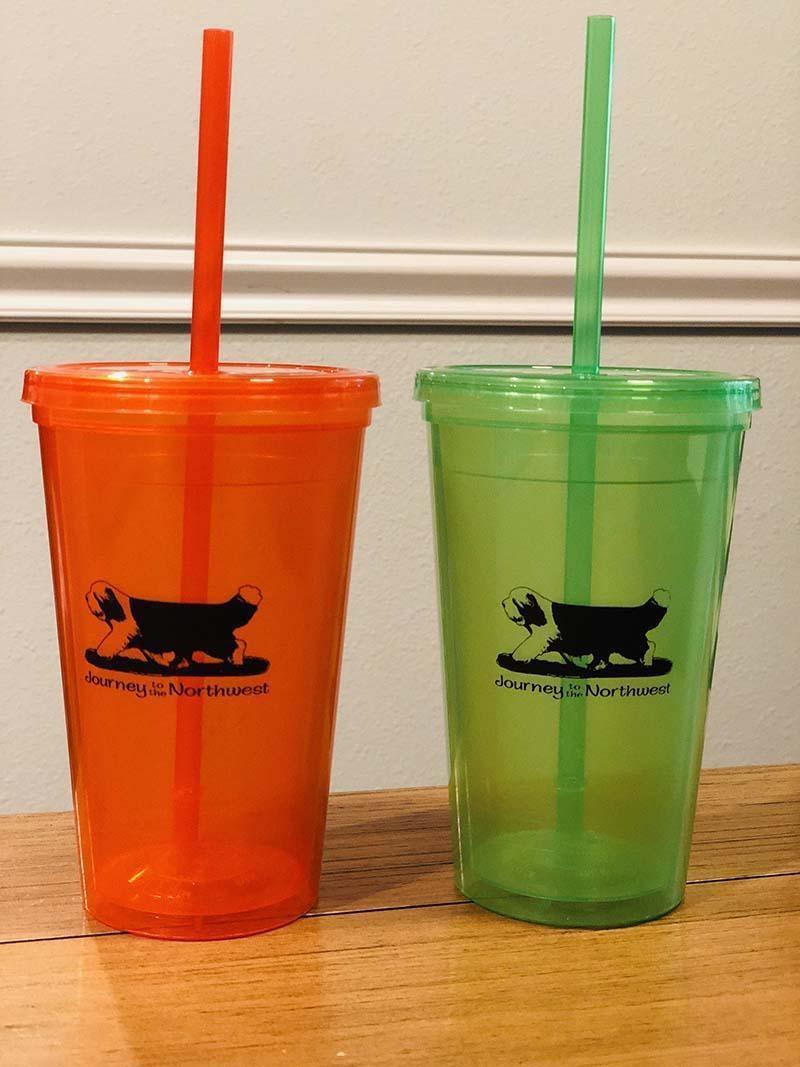cup-disposable: (20, 353, 383, 943), (412, 356, 763, 930)
